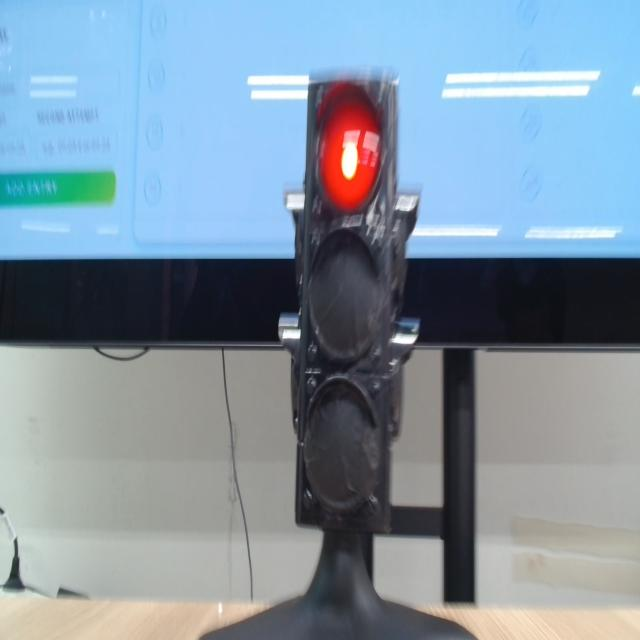red_light: (318, 90, 381, 212)
